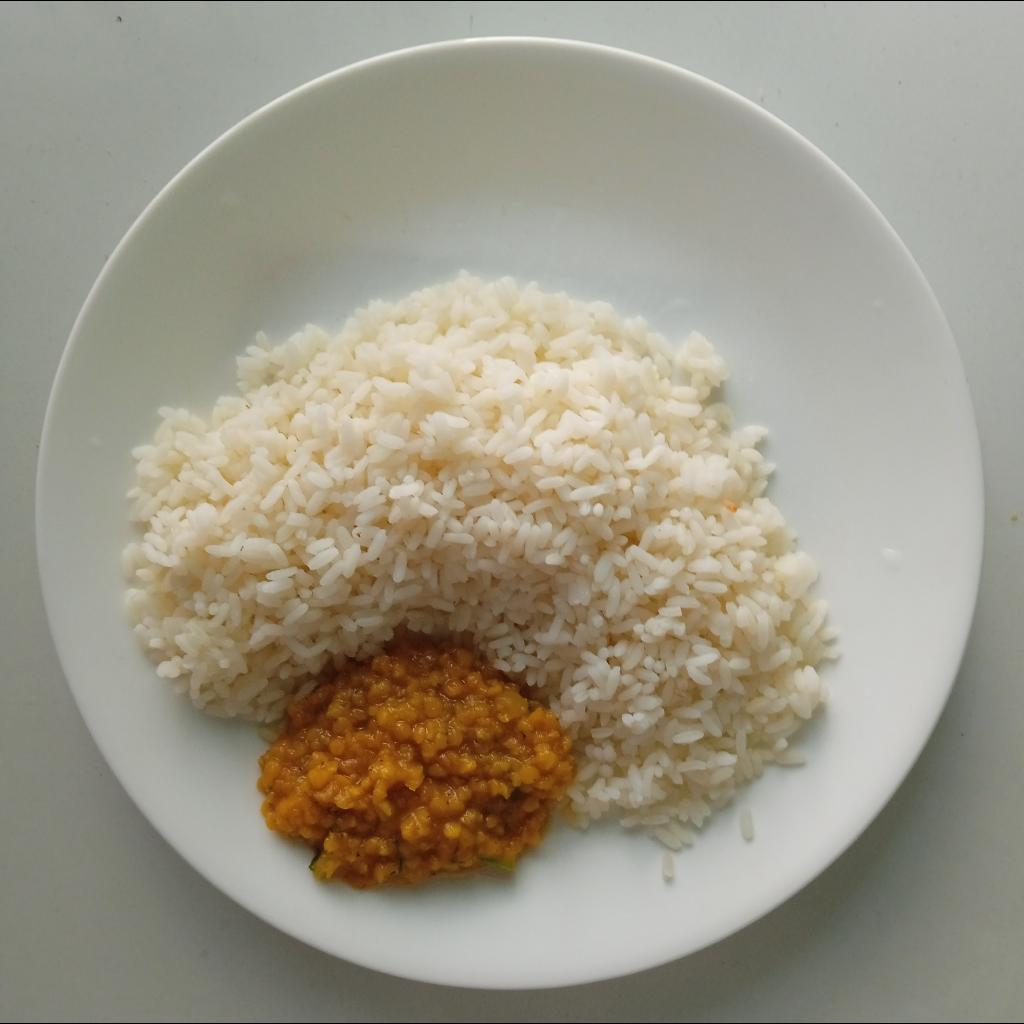daal: (257, 633, 572, 894)
rice: (118, 274, 827, 856)
